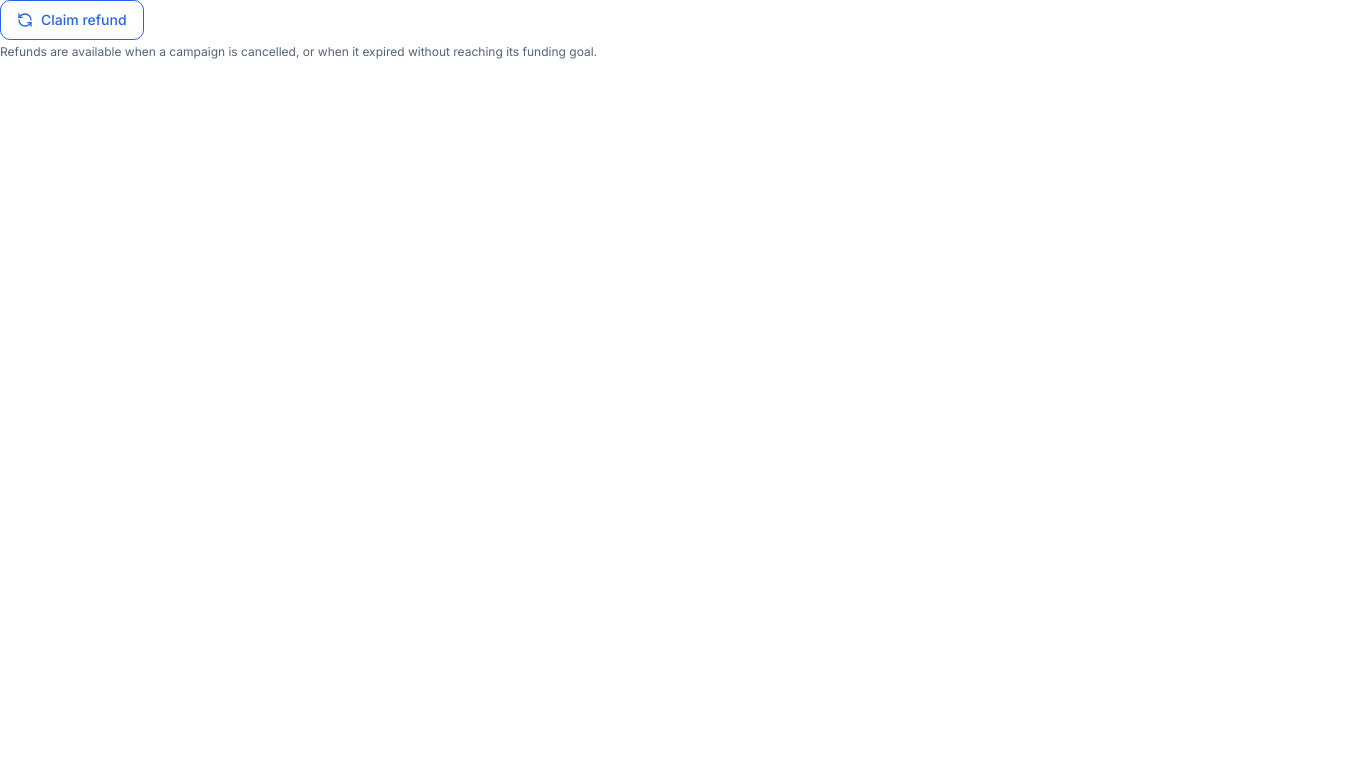
RefundButton — interaction › does not refund when the dialog is cancelled
The width and height of the screenshot is (1366, 768).
Click the button "Claim refund" at [72, 20], box [0,0,144,40]
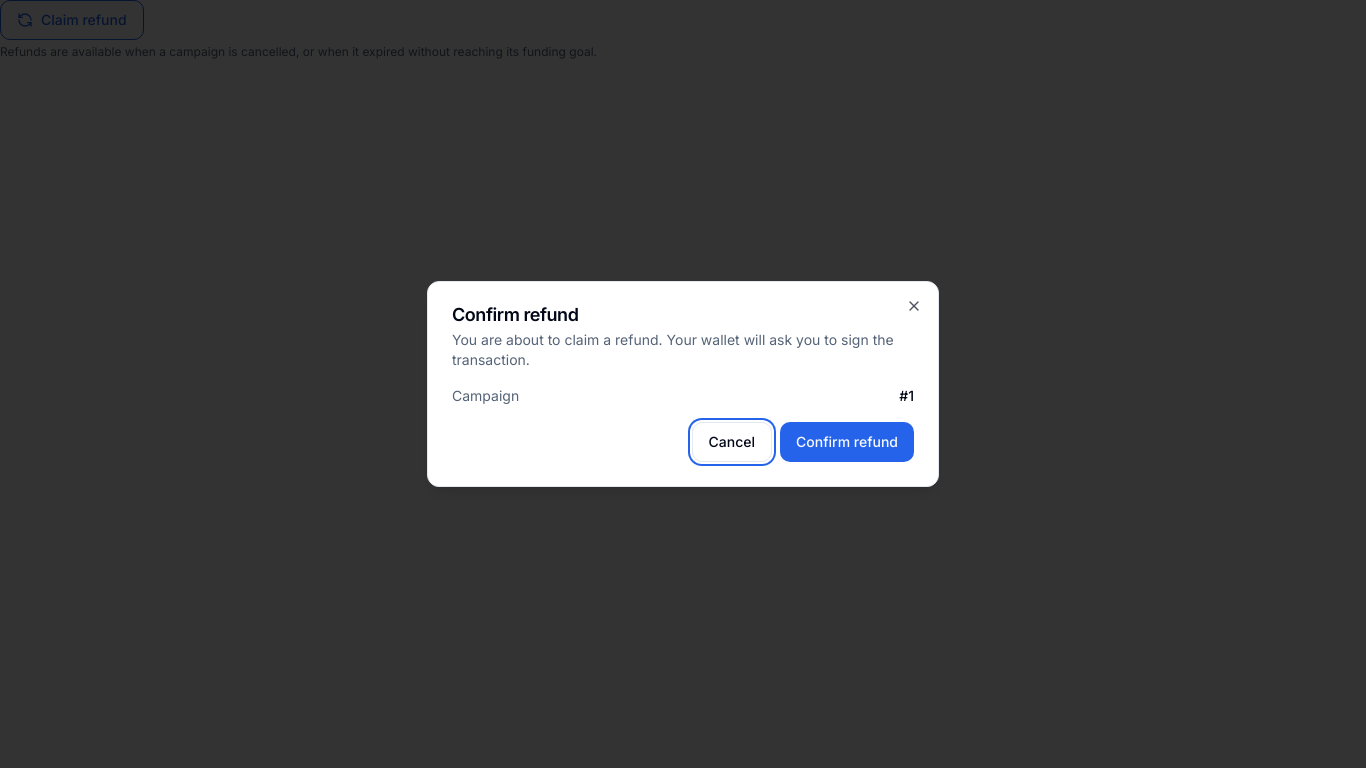
Click the button "Cancel" at [732, 442], box [692,422,772,462]
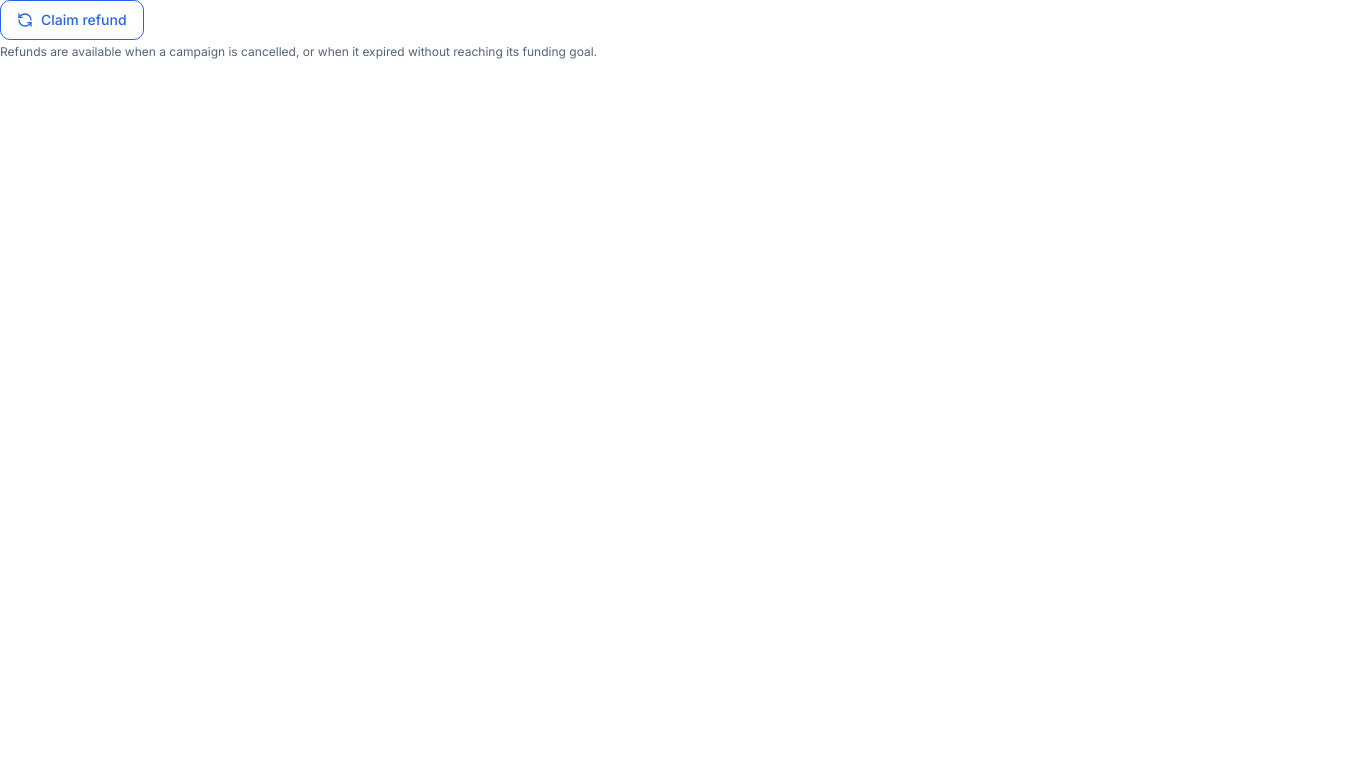
Result: the dialog is gone
